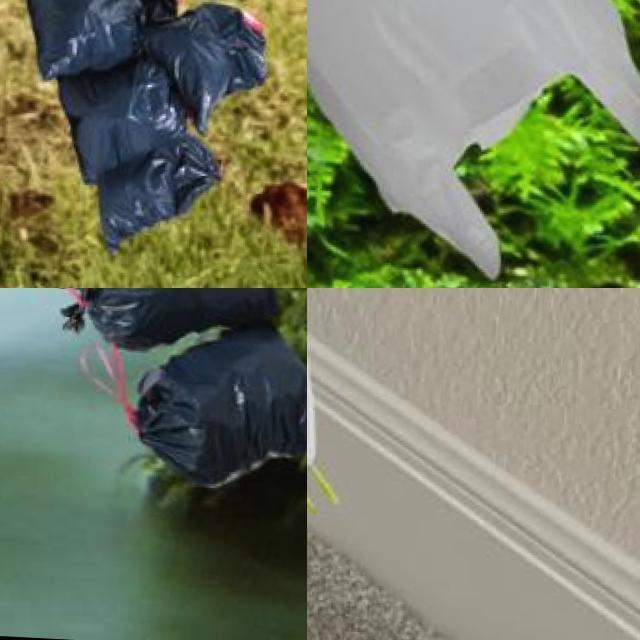waste: (307, 0, 640, 277), (130, 317, 307, 491), (307, 288, 394, 507), (92, 141, 235, 258), (154, 9, 272, 133), (50, 65, 191, 162), (70, 288, 285, 346), (7, 0, 173, 61)
